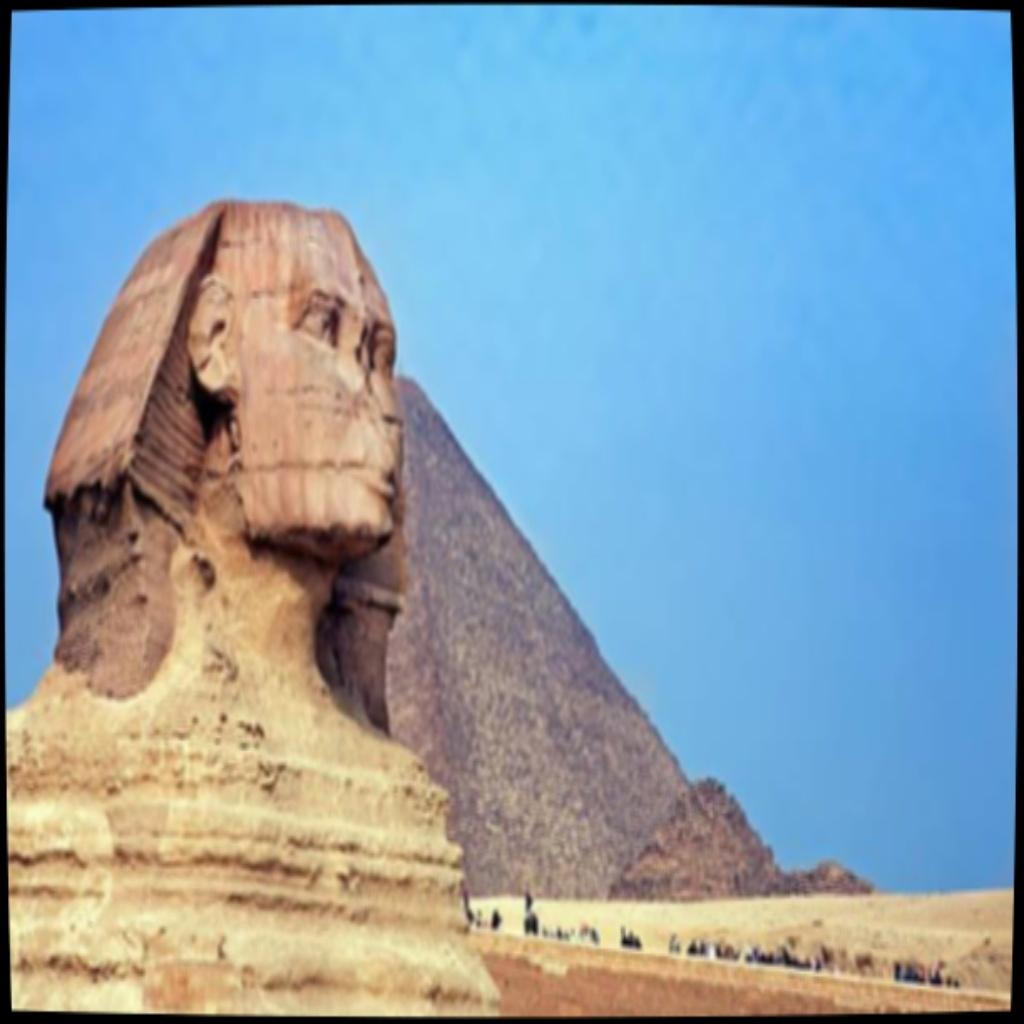Sphinx: (5, 194, 502, 1012)
